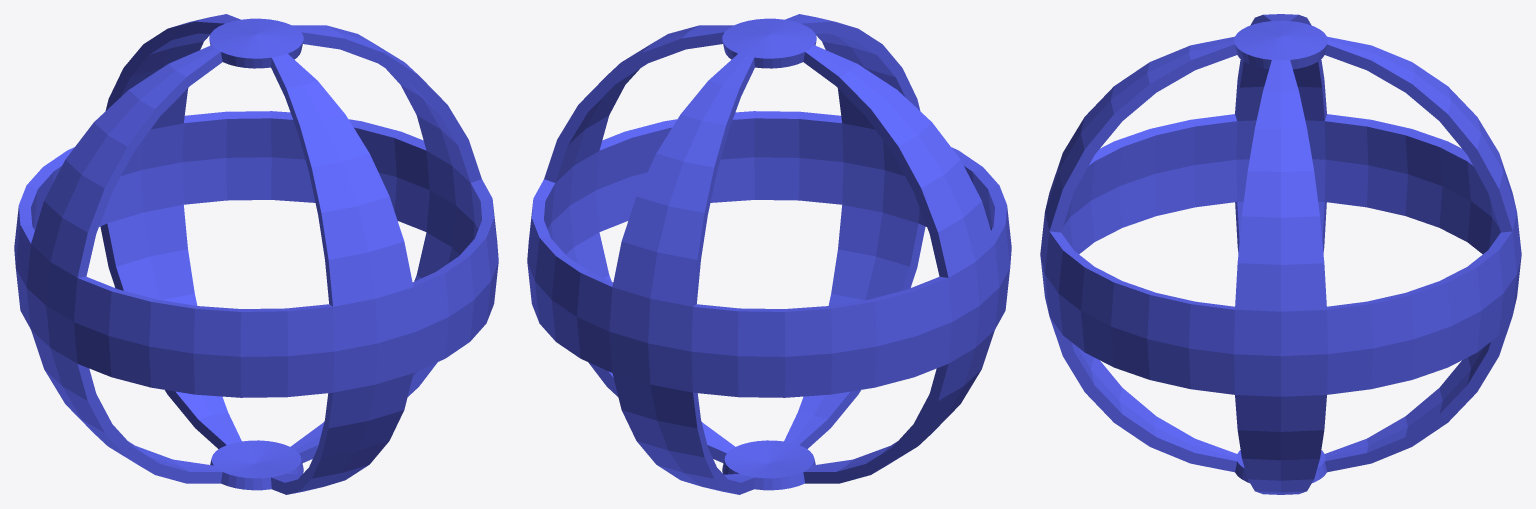
Rendered from PinballBase.fbx.
3 views of the same model, side by side, from view 1: azimuth 30°, elevation 25°; view 2: azimuth 150°, elevation 25°; view 3: azimuth 270°, elevation 25° (orthographic).
Parts seen in each view (by area): view 1: Pinball; view 2: Pinball; view 3: Pinball.
Boxes of the visible parts, <box> form: Pinball: <box>14,14,498,494</box>; Pinball: <box>527,14,1011,494</box>; Pinball: <box>1040,14,1521,494</box>.
Bounding box in the file's own units: 36.36 × 36.36 × 36.36.
